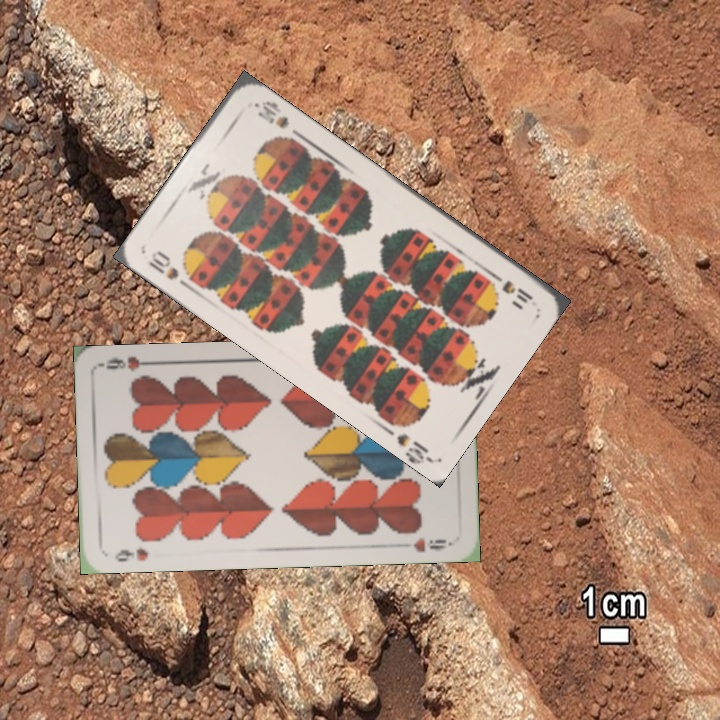H9: (111, 544, 151, 565)
S10: (144, 246, 197, 293), (485, 268, 536, 306)
